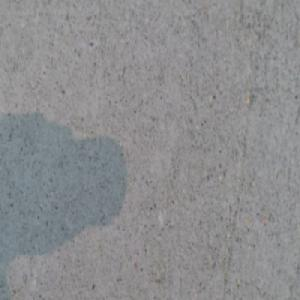Washer: (158, 286, 182, 300)
